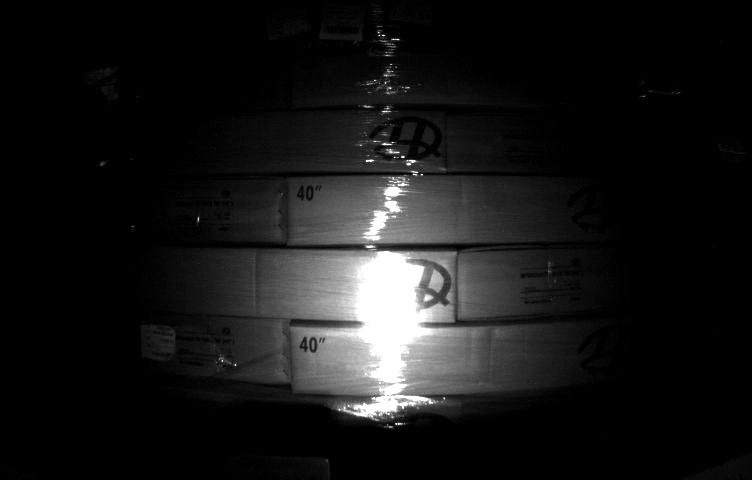True Barcode: (140, 324, 177, 363)
